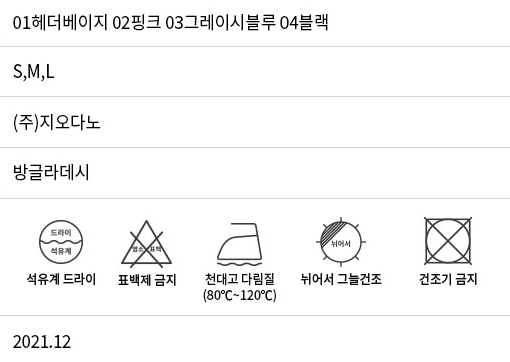KR_dry_clean_petroleum: (35, 215, 89, 267)
KR_flat_dry_in_shade: (313, 210, 371, 270)
KR_no_chlorine_bleach: (118, 215, 175, 271)
KR_no_tumble_dry: (417, 209, 478, 268)
